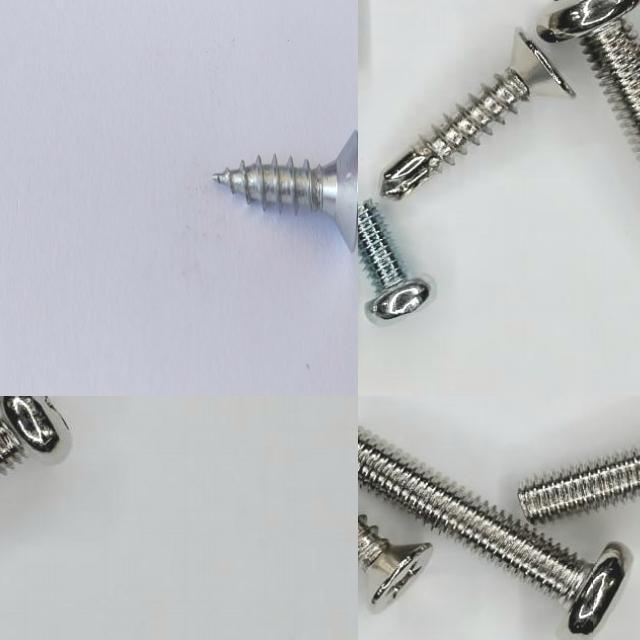Screw: (358, 426, 631, 634), (381, 29, 577, 200), (213, 129, 358, 251), (539, 0, 640, 156), (519, 450, 640, 523), (358, 201, 431, 321), (358, 513, 432, 612), (0, 396, 71, 466)
